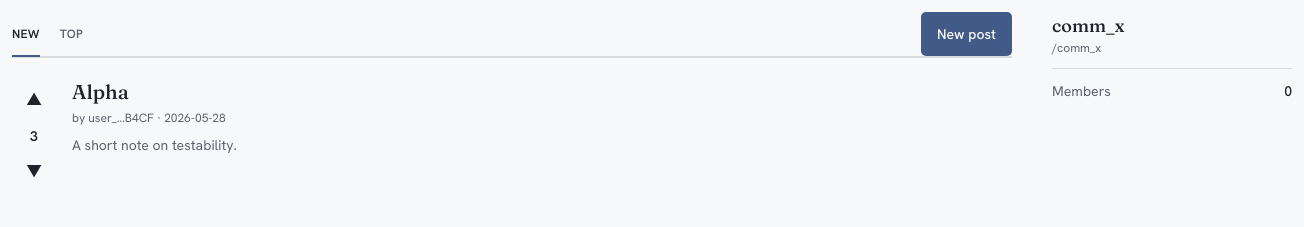
Test case: a failed vote surfaces the error and does not patch the score
Click the button named "Upvote" at (34, 100), box [12,78,56,122]
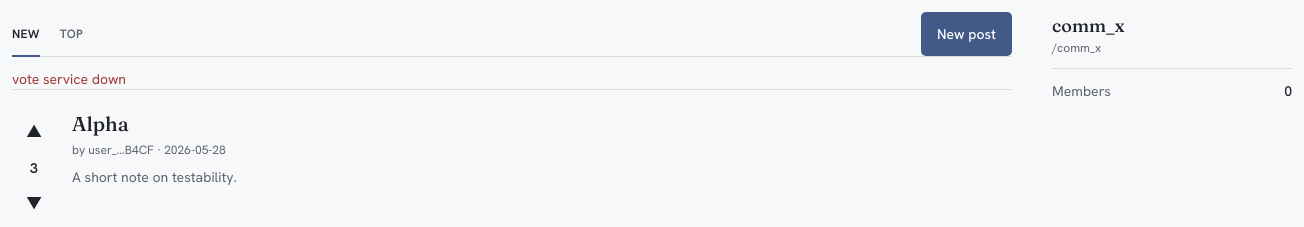
Expected: the text "3" is shown, [30,159,38,177]
Result: the message reads "vote service down" at [12,70,126,88]
